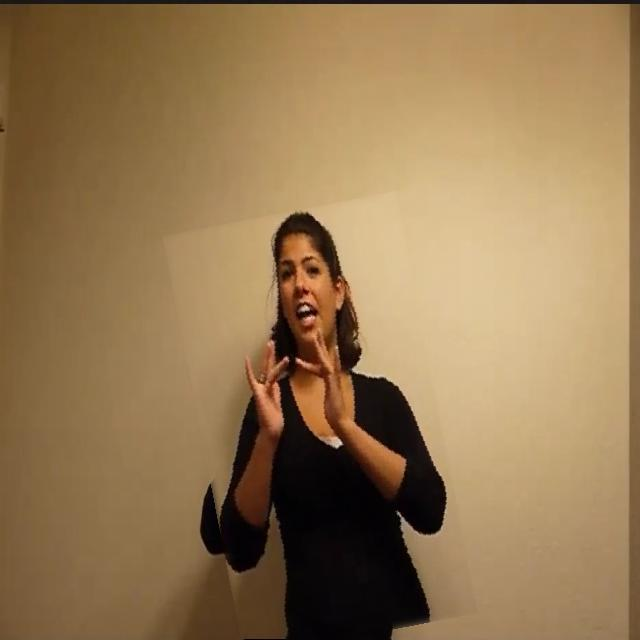Internet: (182, 200, 459, 640)
